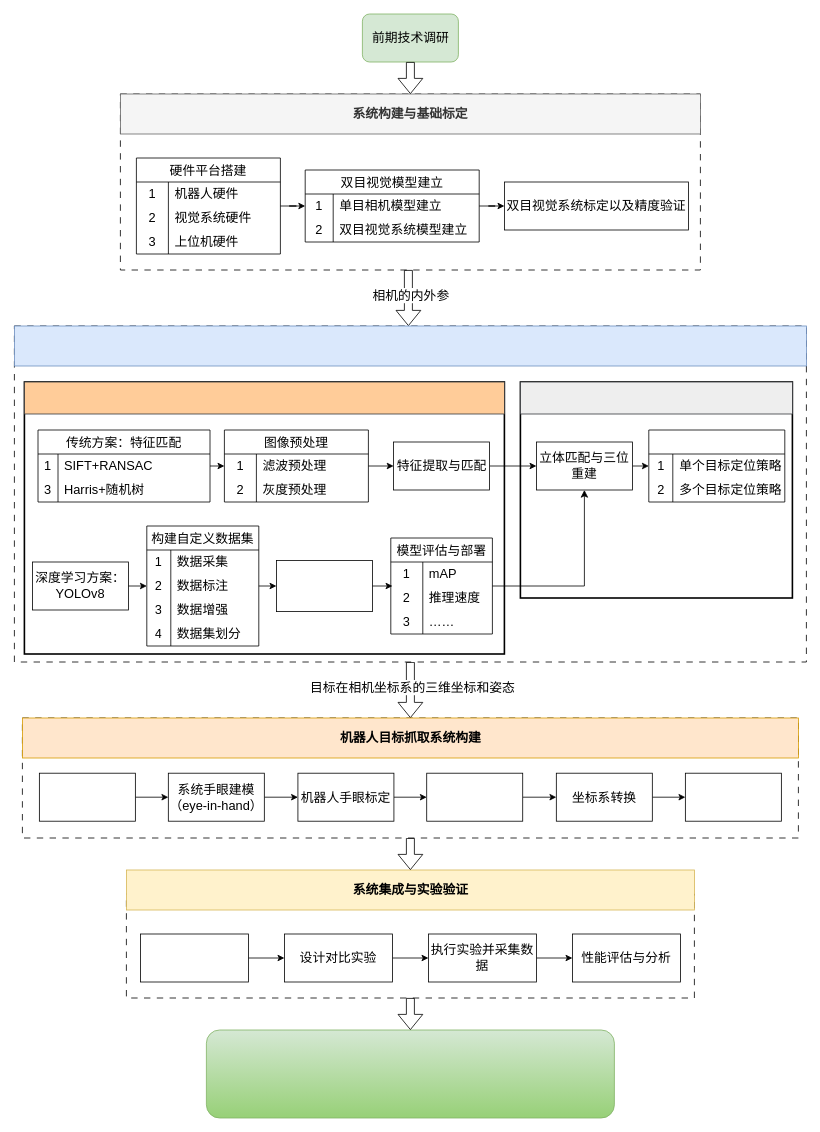
Some shapes in this 820 by 1132 pixel diagram are drawn without their labels. Here are the shapes that lost their labels. From the top down, the box of each, then its label:
(14, 325, 806, 366): 视觉感知算法开发
(24, 381, 504, 414): 目标检测
(520, 381, 792, 414): 位姿估计
(648, 429, 785, 502): 目标空间位姿求解
(276, 560, 372, 612): 训练与优化模型
(39, 772, 135, 821): 机器人运动学建模
(426, 772, 523, 821): 标定精度验证
(685, 772, 781, 821): 路径规划与抓取
(140, 933, 248, 982): 软件系统集成开发
(206, 1029, 614, 1118): 1.一套自建目标图像数据集和训练好的YOLOv8模型 2.一套融合深度学习分割与几何视觉测量的核心算法模块 3.一套能够准确识别定位装配零件的机器视觉系统
